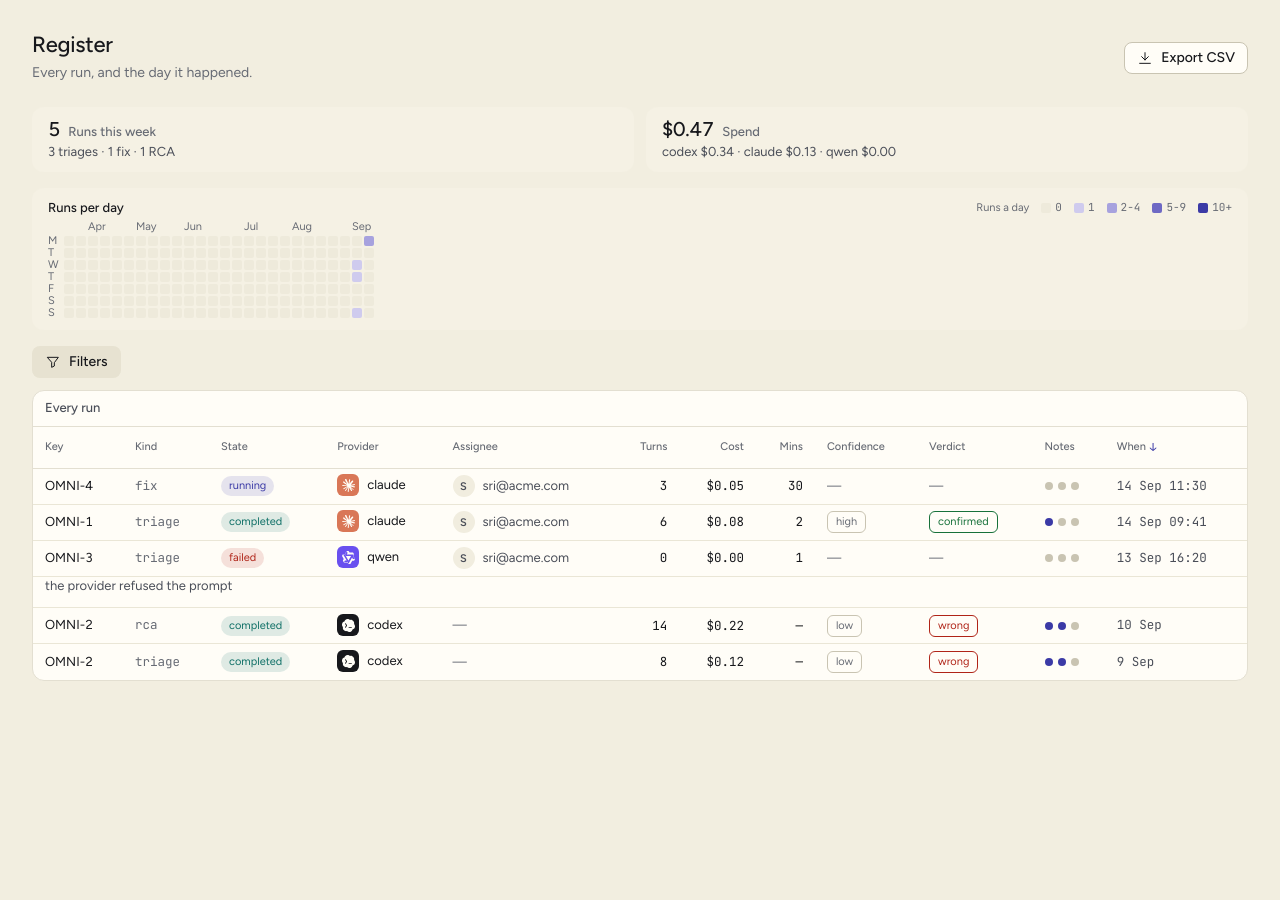
Register › buckets the grid by runs a day and filters the table to the day that is chosen
Click the button named "Monday 14 September, 2 runs": (369, 241) x1=364 y1=236 x2=374 y2=246
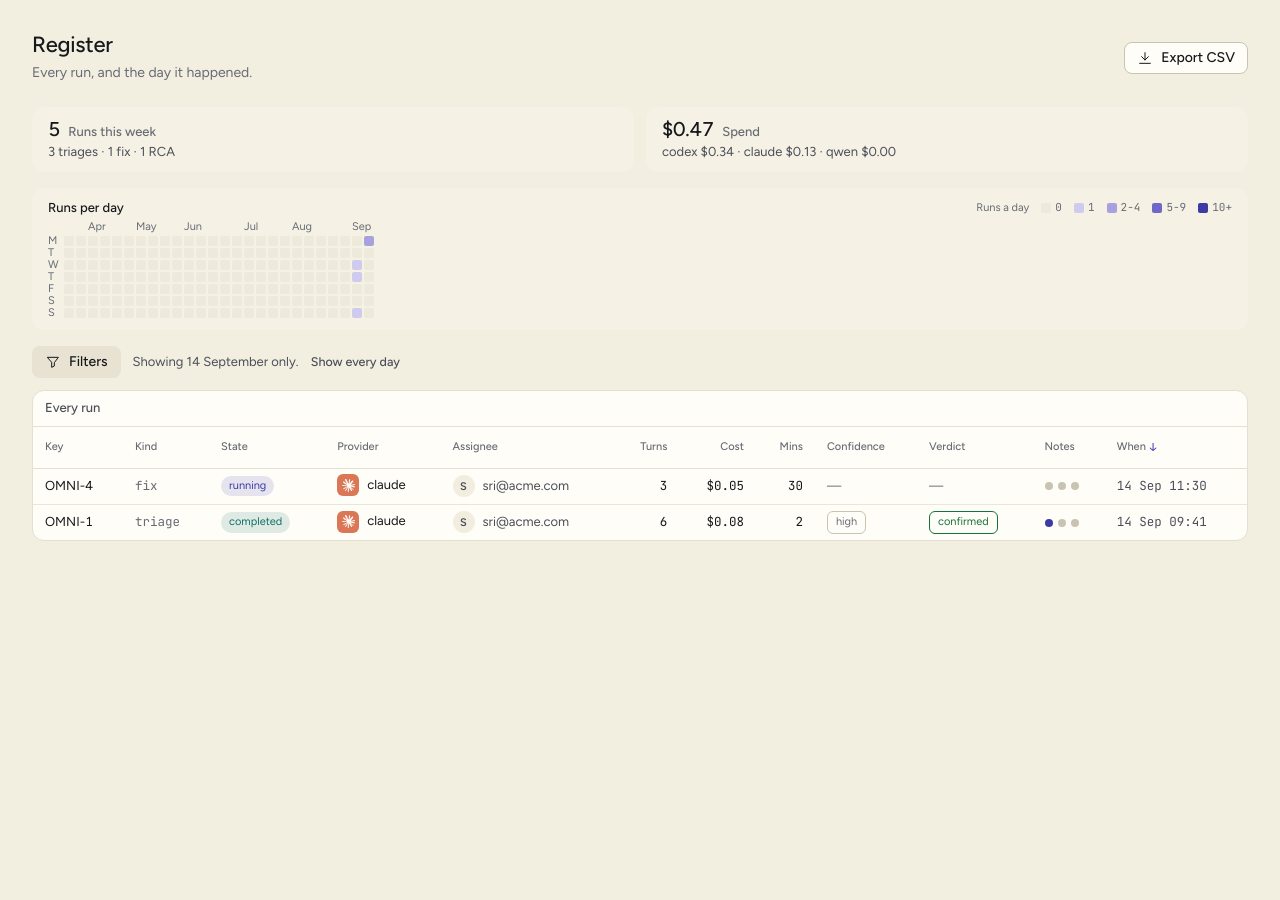
Expected: the button "OMNI-1" is shown, x1=45 y1=513 x2=93 y2=532
Expected: the text "Showing 14 September only. Show every day" is shown, x1=133 y1=348 x2=409 y2=376
Expected: the button "OMNI-3" is gone
Click the button "Show every day": (355, 362) x1=302 y1=348 x2=409 y2=376
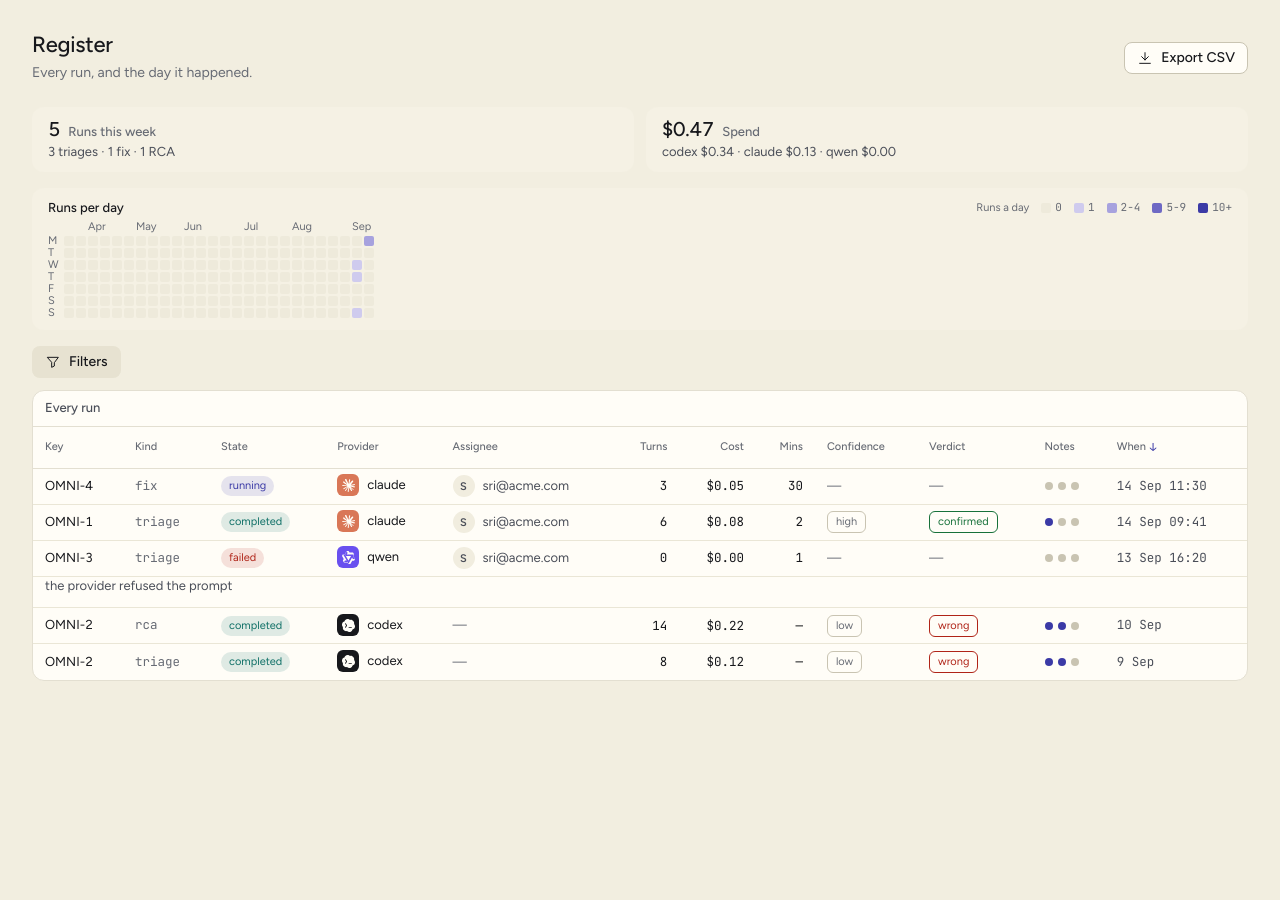
Expected: the button "OMNI-3" is shown, x1=45 y1=549 x2=93 y2=567
